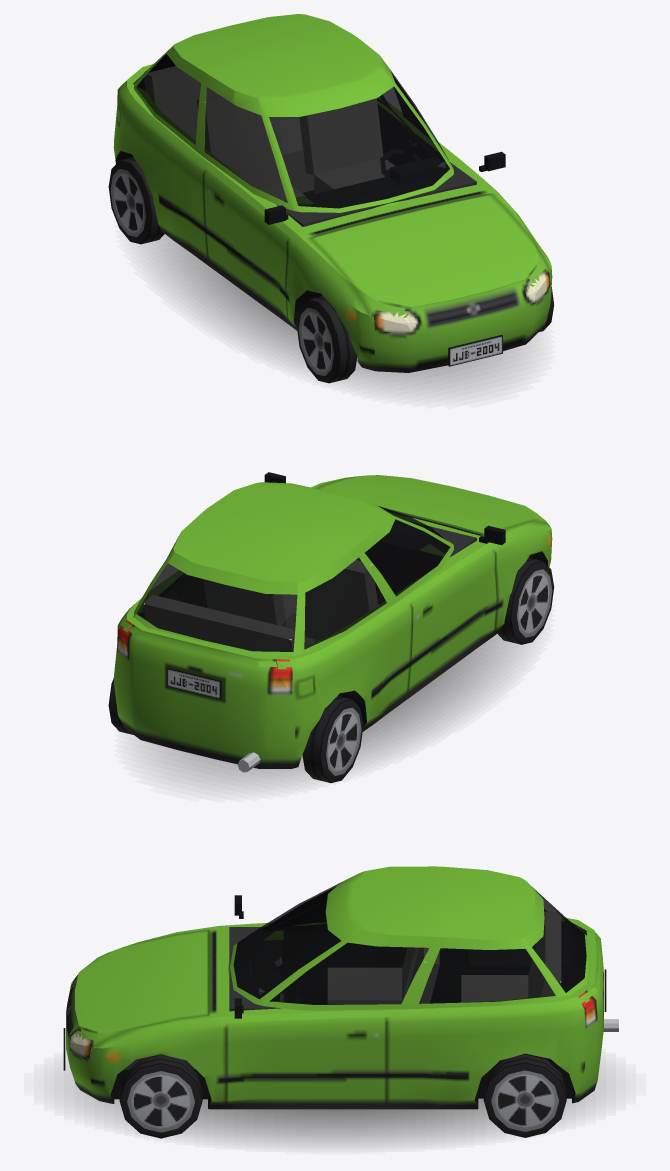
File: jujuba.glb
The picture shows the model from 3 angles, top to bottom: view 1: azimuth 30°, elevation 25°; view 2: azimuth 150°, elevation 25°; view 3: azimuth 270°, elevation 25°; orthographic projection. The views are drawn at different scales.
Visible parts, largest first — view 1: Carroceria, Interior, Capo_malha, Porta_D_malha, Sombra, Roda_DD, Roda_TD, Porta_E_malha, Farol; view 2: Carroceria, Tampa_malha, Interior, Porta_D_malha, Sombra, Capo_malha, Roda_TD, Roda_DD; view 3: Carroceria, Interior, Porta_E_malha, Sombra, Capo_malha, Roda_DE, Roda_TE, Tampa_malha, Porta_D_malha.
Part boxes in pixels (bbox=[...]): Carroceria: bbox=[113, 14, 552, 372]; Interior: bbox=[133, 66, 476, 226]; Capo_malha: bbox=[310, 194, 550, 317]; Porta_D_malha: bbox=[203, 91, 294, 317]; Sombra: bbox=[141, 234, 529, 394]; Roda_DD: bbox=[296, 296, 357, 383]; Roda_TD: bbox=[108, 157, 164, 244]; Porta_E_malha: bbox=[380, 56, 505, 171]; Farol: bbox=[376, 274, 549, 332]; Carroceria: bbox=[113, 477, 552, 772]; Tampa_malha: bbox=[129, 552, 297, 747]; Interior: bbox=[138, 520, 476, 651]; Porta_D_malha: bbox=[379, 513, 505, 689]; Sombra: bbox=[139, 634, 523, 788]; Capo_malha: bbox=[316, 475, 549, 533]; Roda_TD: bbox=[302, 696, 363, 782]; Roda_DD: bbox=[497, 557, 554, 644]; Carroceria: bbox=[63, 866, 618, 1109]; Interior: bbox=[124, 900, 586, 1069]; Porta_E_malha: bbox=[226, 930, 386, 1101]; Sombra: bbox=[64, 1070, 605, 1145]; Capo_malha: bbox=[81, 930, 208, 1047]; Roda_DE: bbox=[119, 1054, 202, 1138]; Roda_TE: bbox=[483, 1054, 566, 1137]; Tampa_malha: bbox=[524, 881, 606, 1071]; Porta_D_malha: bbox=[234, 888, 333, 929].
Size of the model in its own units: 2.3 by 1.41 by 4.32.
Materials: 12 (6 with a texture image).
